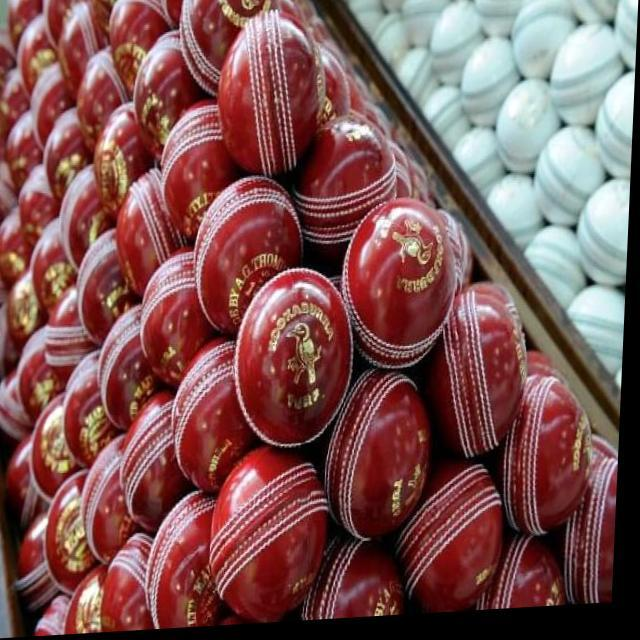cricket ball: (237, 273, 356, 451), (216, 449, 332, 624), (345, 202, 460, 372), (218, 11, 327, 178), (329, 374, 435, 545), (196, 180, 306, 336)
